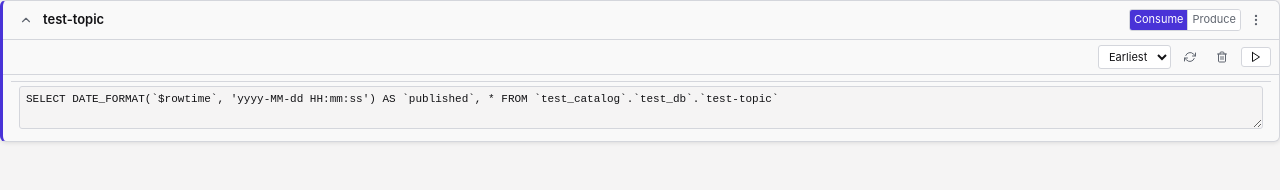
Test case: [@stream-card] StreamCard › schema not found shows inline error and does NOT start producer
Switch to Produce mode first
Click the button "Produce": [1214, 20] box [1188,10,1240,30]
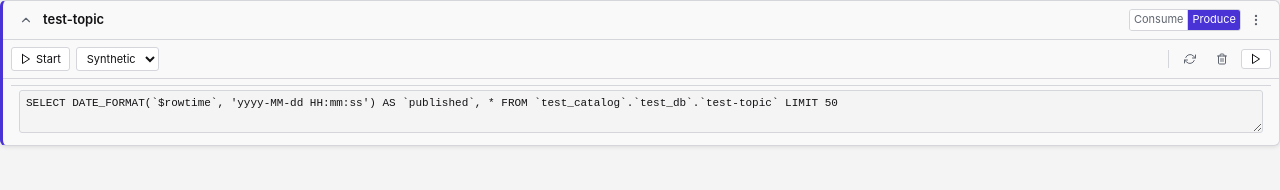
Click the button with aria-label "Start producer": [40, 59] box [11,47,70,71]
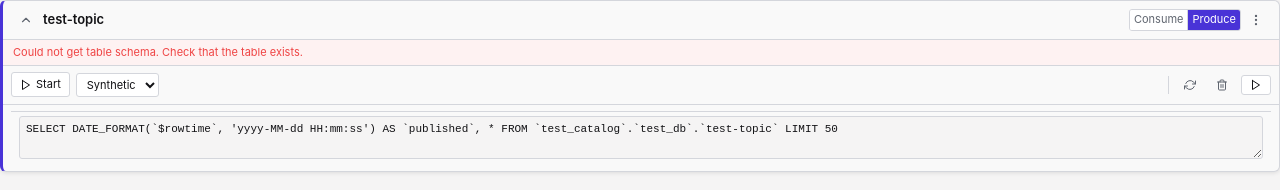
Result: the text "Could not get table schema. Check that the table exists." is shown at [3,40,1279,66]
